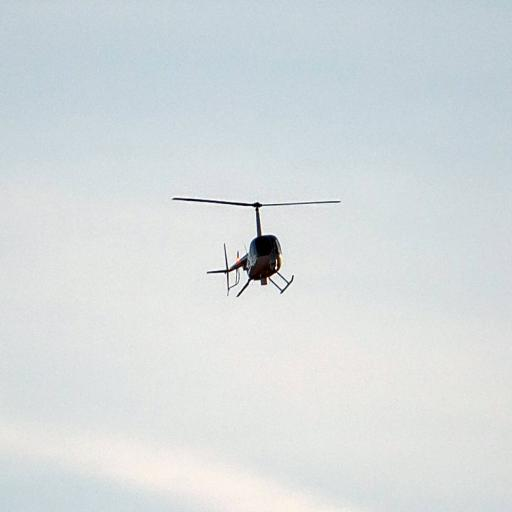helicopter: (169, 190, 344, 304)
